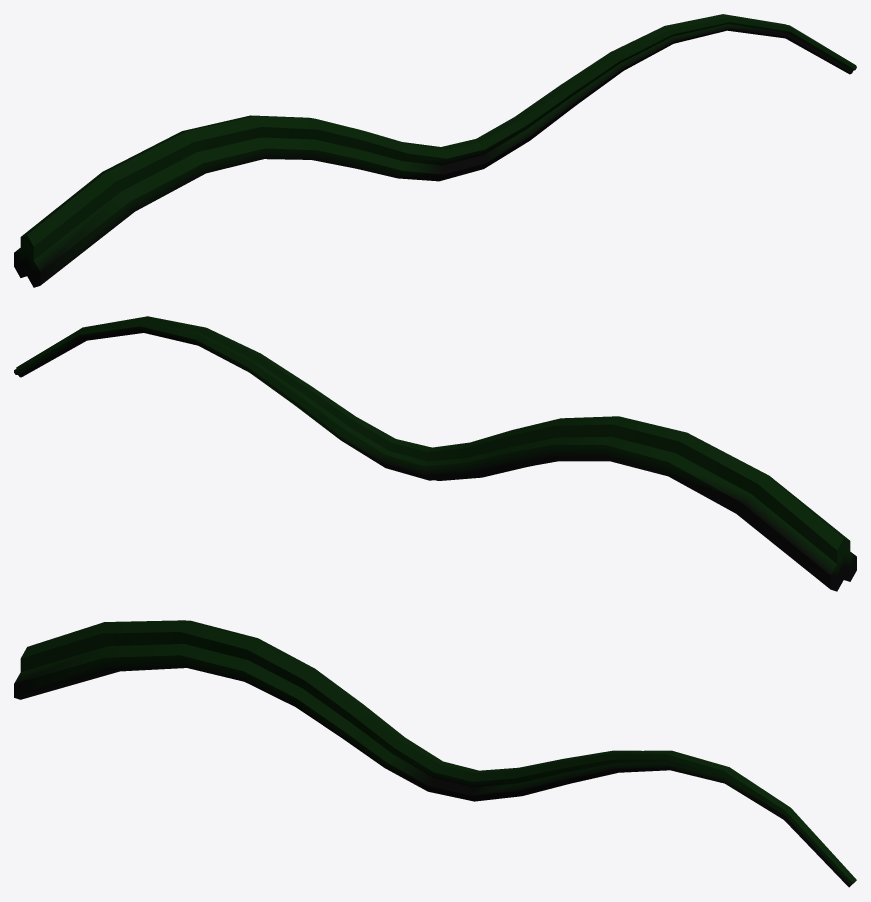
Rendered from vine_front.fbx.
3 renders of one model, top to bottom at view 1: azimuth 30°, elevation 25°; view 2: azimuth 150°, elevation 25°; view 3: azimuth 330°, elevation 25°, orthographic.
Visible parts, largest first — view 1: pCylinder5; view 2: pCylinder5; view 3: pCylinder5.
Boxes of the visible parts, x1,y1,x2,y2 form: pCylinder5: (14, 14, 856, 287); pCylinder5: (14, 316, 856, 591); pCylinder5: (14, 620, 856, 887).
Bounding box in the file's own units: 201 × 26.51 × 11.07.
